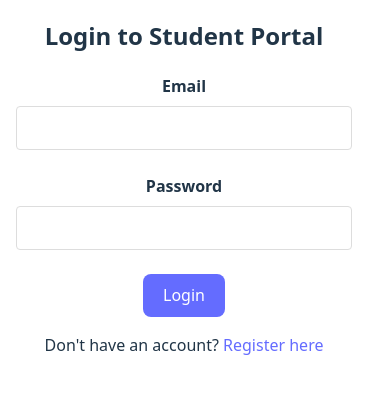
Test: LoginPage › should show validation error for invalid email
This screenshot has width=369, height=411.
In the field labelled "Email": x=184, y=128 left=16, top=106, right=352, bottom=150, type "invalid-email"
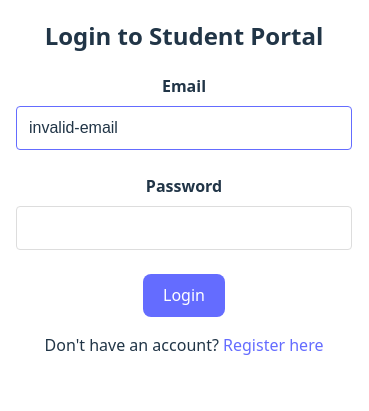
Submit the form, box left=16, top=74, right=352, bottom=317
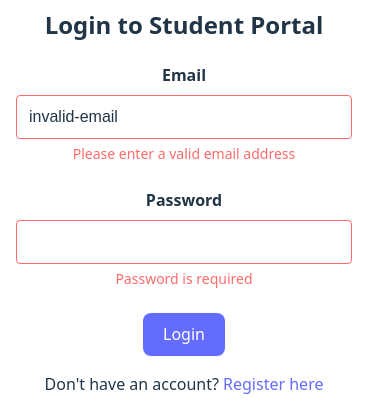
Check: the text "Please enter a valid email address" is shown, box left=73, top=144, right=295, bottom=163
